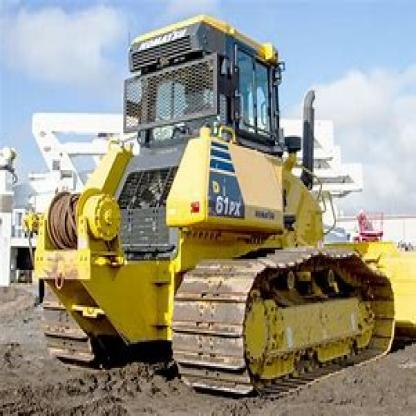bull_dozer/loader/grader: (20, 2, 414, 392)
